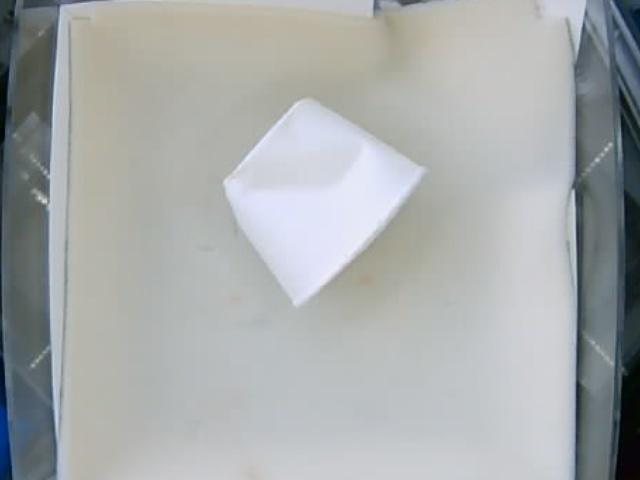Cup: (225, 96, 428, 309)
